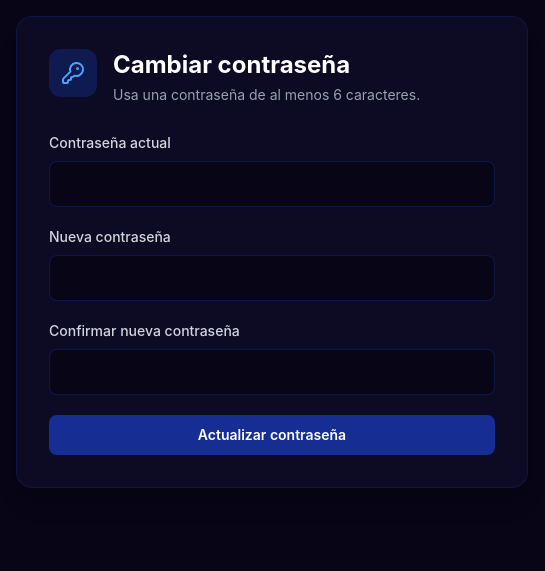
ChangePasswordPage › envía las contraseñas y confirma la actualización
In the password field labelled "Contraseña actual": (272, 184) [49,161,495,207], type "actual123"
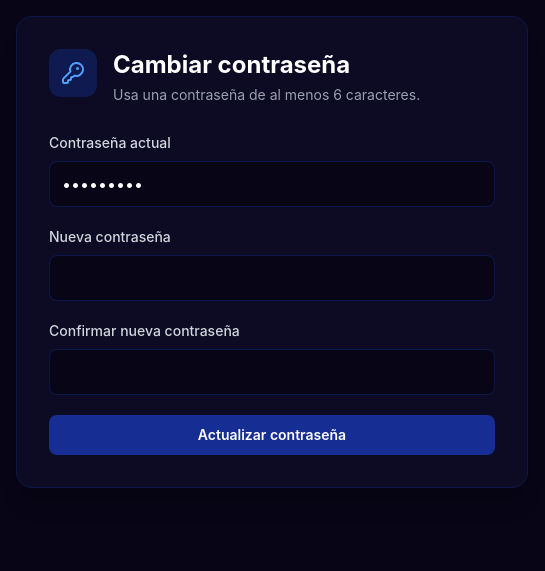
In the password field labelled "Nueva contraseña": (272, 278) [49,255,495,301], type "nueva123"
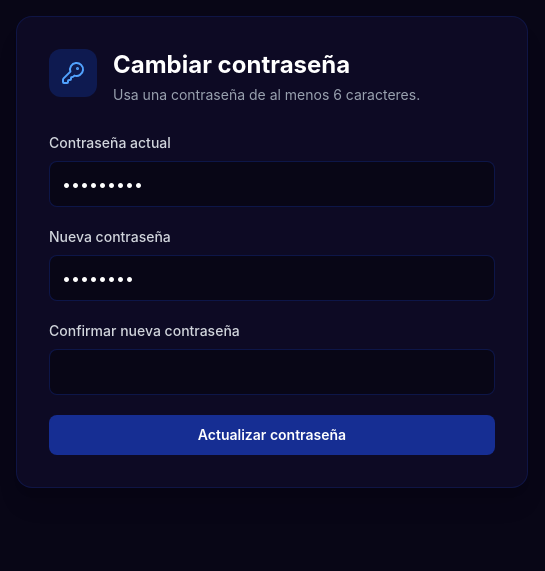
In the password field labelled "Confirmar nueva contraseña": (272, 372) [49,349,495,395], type "nueva123"
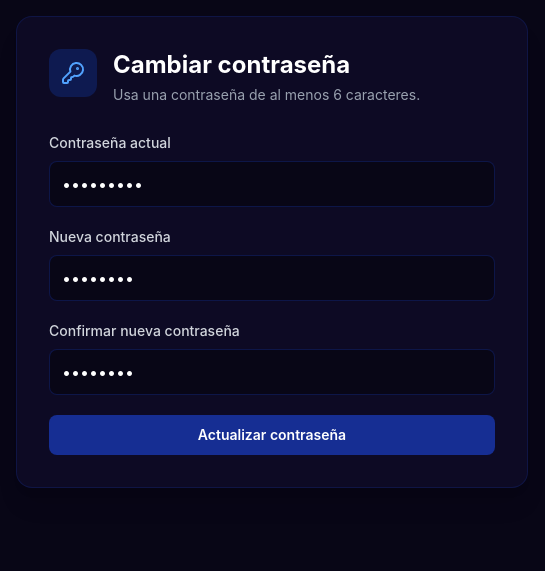
Click the button "Actualizar contraseña": click(272, 435) [49,415,495,455]
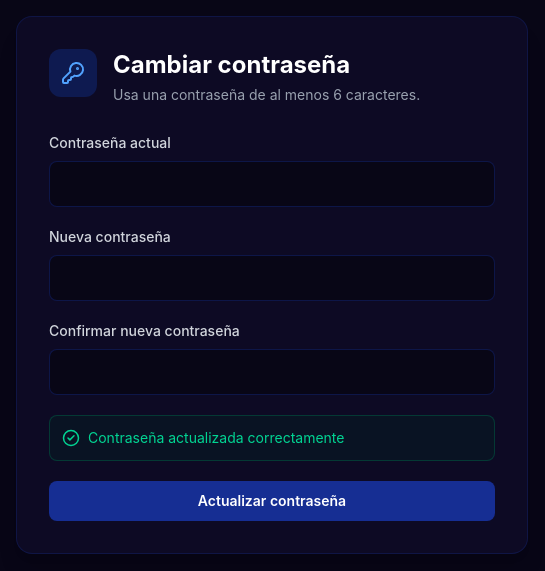
Check: the text "Contraseña actualizada correctamente" is shown, box [49,415,495,461]
Check: the password field labelled "Contraseña actual" is empty, box [49,161,495,207]
